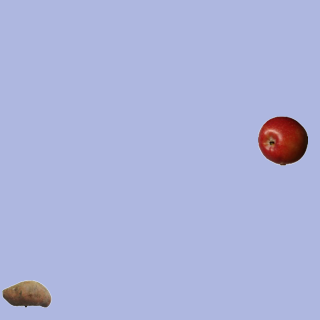Apple Braeburn: (257, 115, 307, 165)
Potato Sweet: (1, 268, 51, 318)
